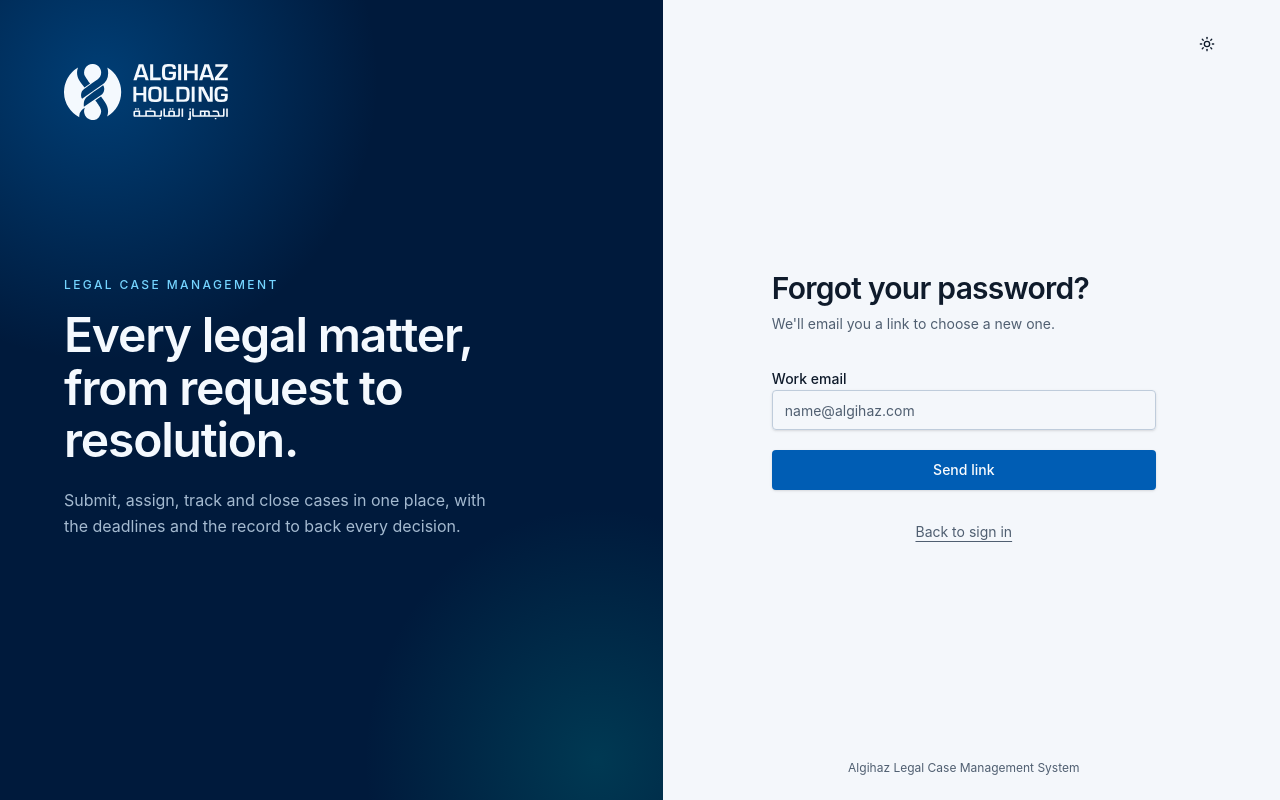
Test: ForgotPasswordPage › says so when the server cannot be reached
expect the heading "Forgot your password?" is shown: met, box left=772, top=270, right=1089, bottom=306
Type "someone@example.com" into the field labelled "Work email" at (964, 410), box left=772, top=390, right=1156, bottom=430
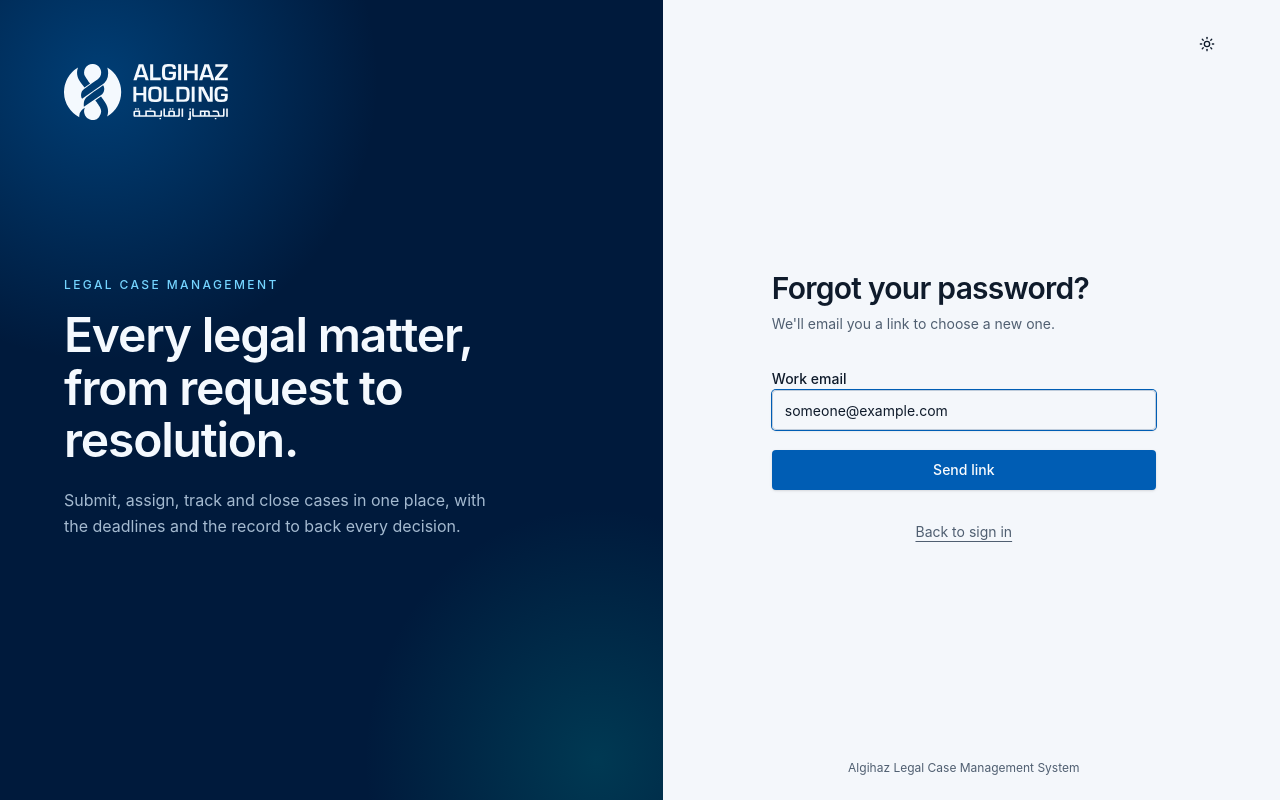
Click the button "Send link" at (964, 470), box left=772, top=450, right=1156, bottom=490
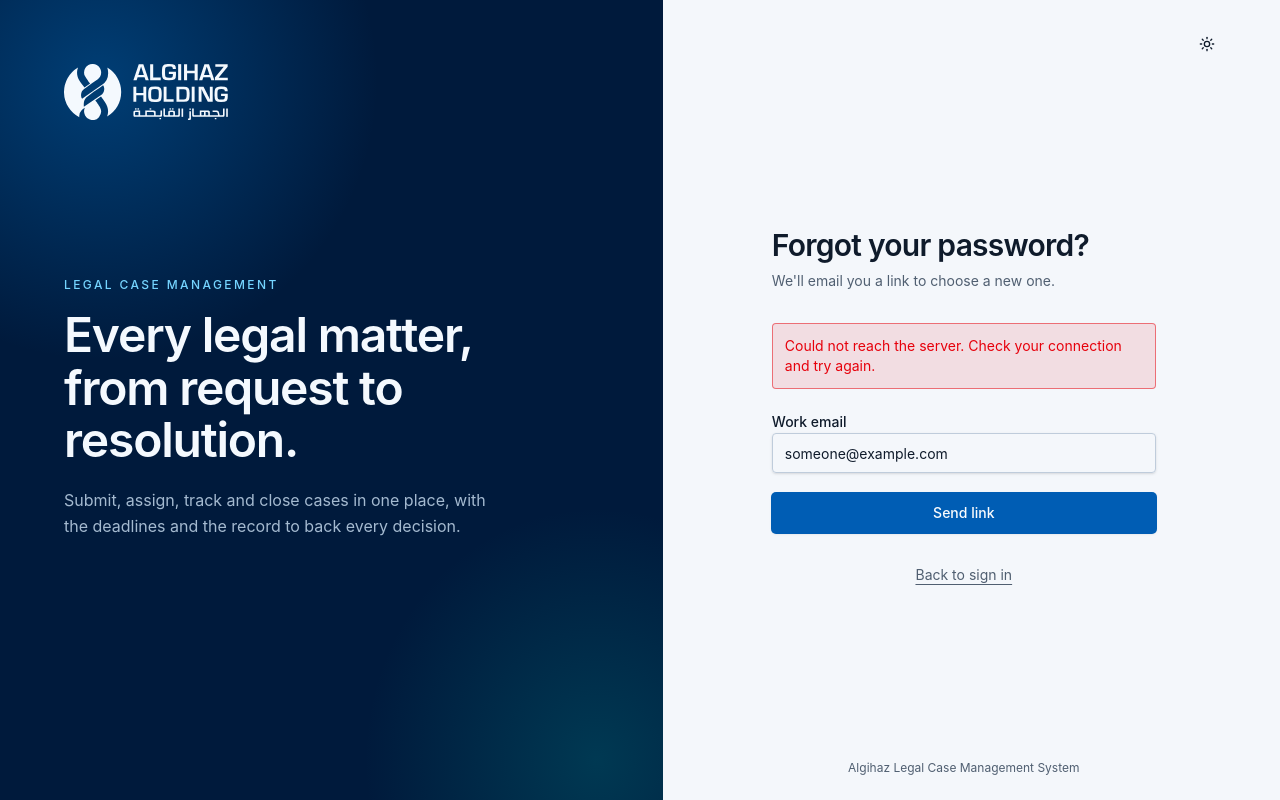
expect the message shows "Could not reach the server": met, box left=785, top=337, right=1122, bottom=374
